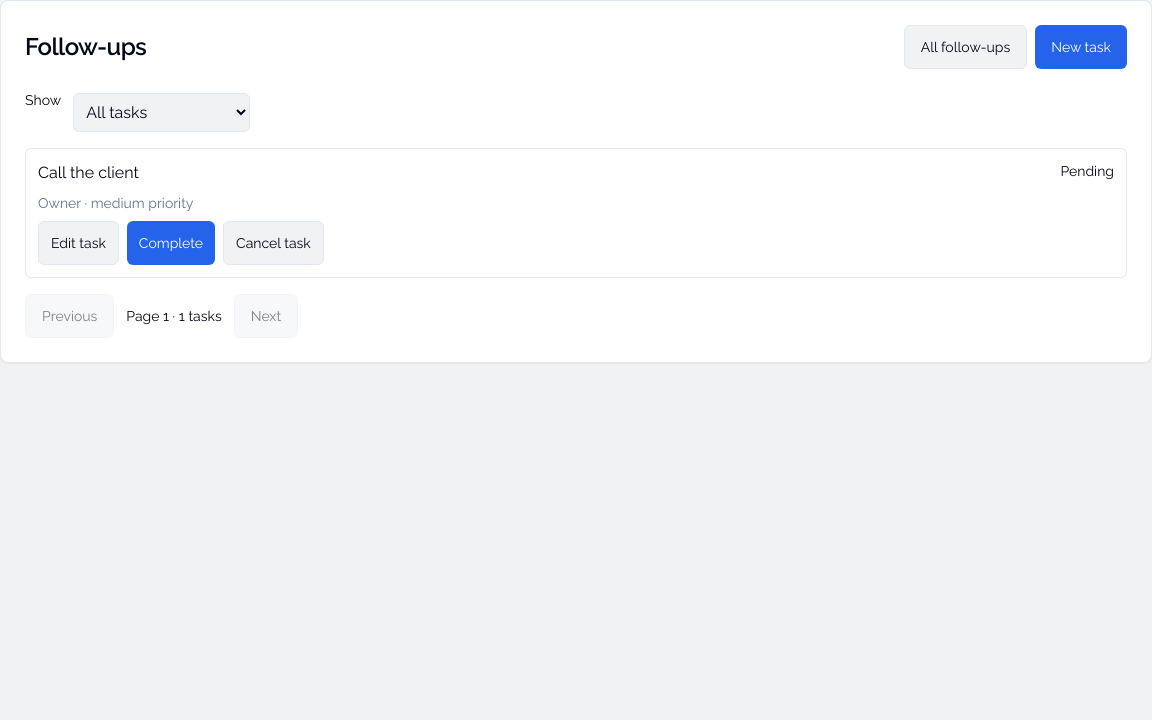
Test: client follow-up workflow › creates a client-linked assigned task from the dialog
Step 1. Click the button "New task" → (1081, 47), box [1035,25,1127,69]
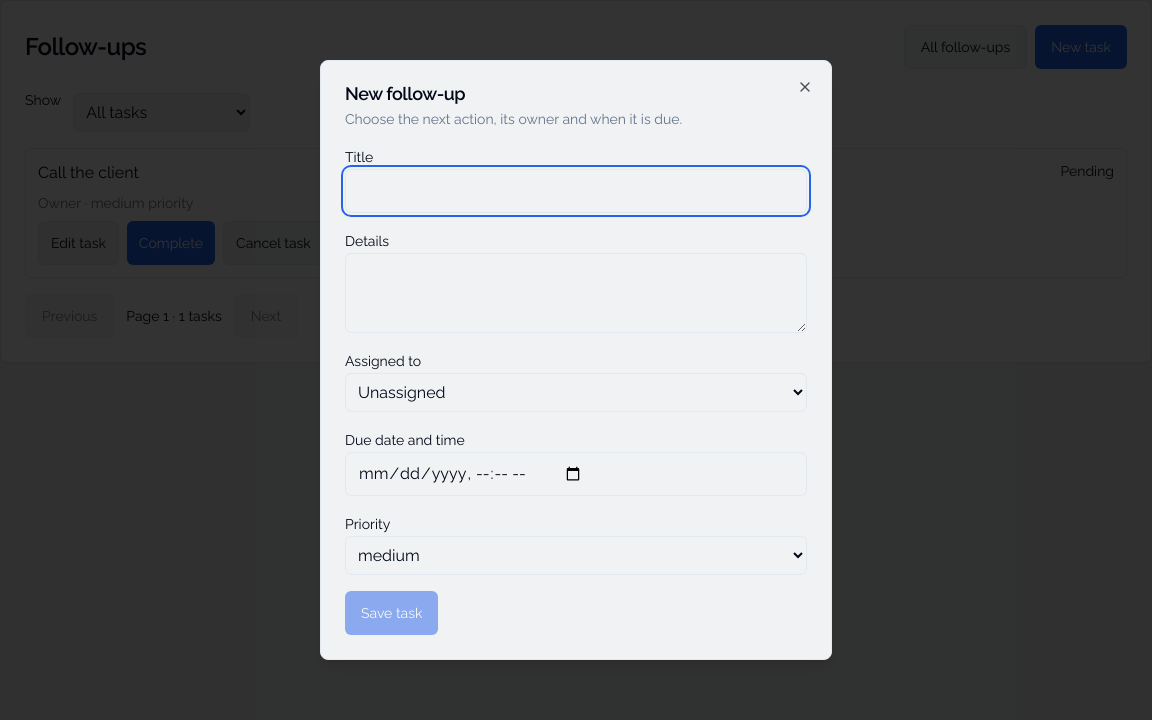
Step 2. Type "Prepare estimate" into the field labelled "Title" → (576, 191), box [345,169,807,213]
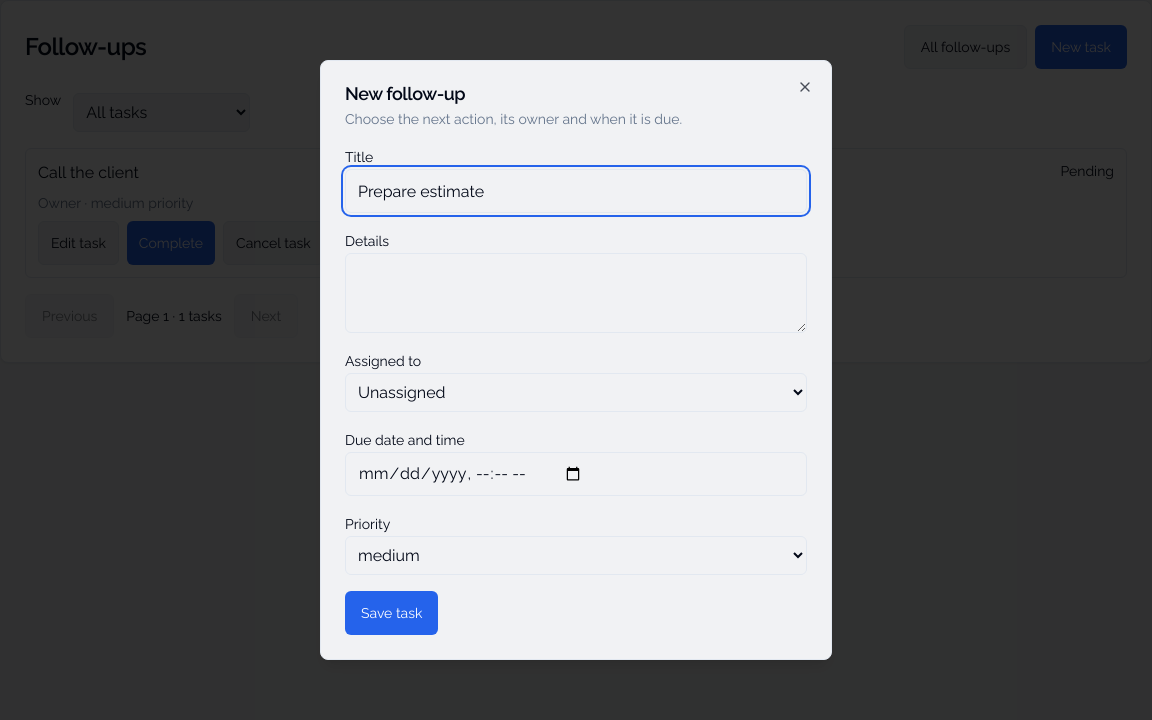
Step 3. Select "Owner" in the dropdown labelled "Assigned to" → (576, 392), box [345,373,807,412]
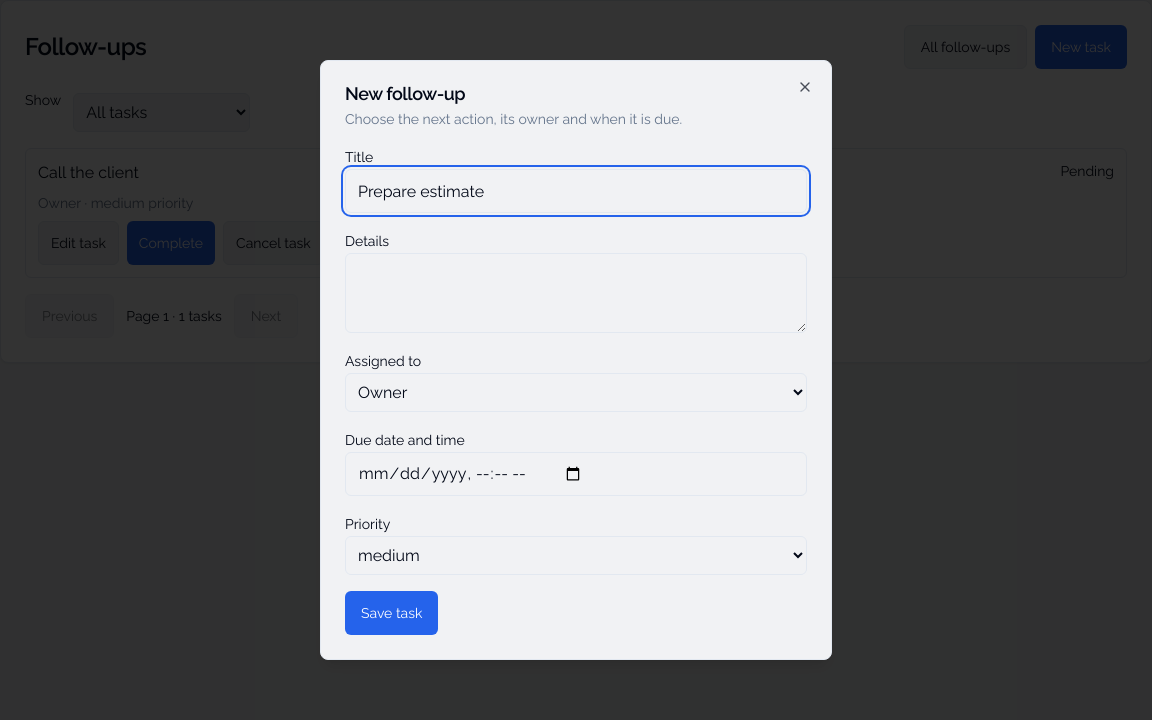
Step 4. Click the button "Save task" → (392, 613), box [345,591,438,635]
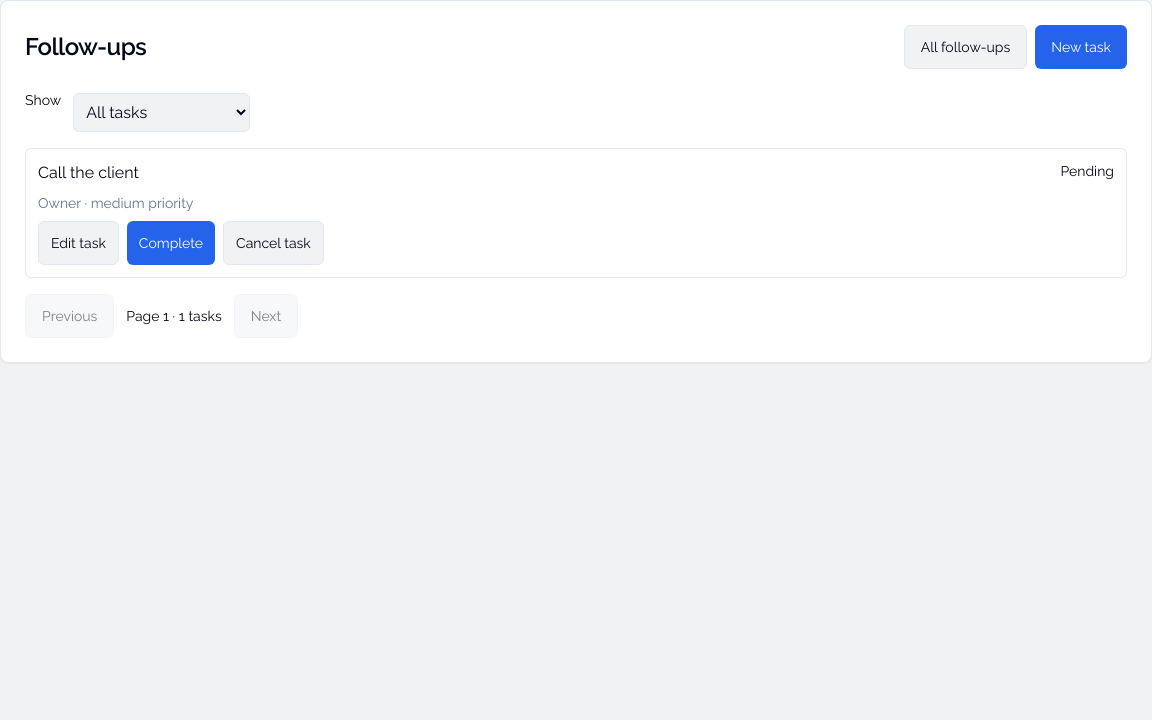
Expected: the dialog is gone
